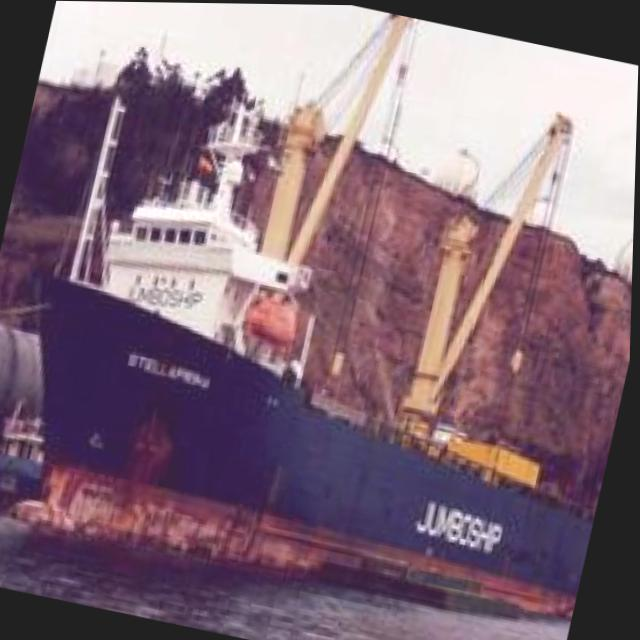ship2: (16, 12, 597, 616)
